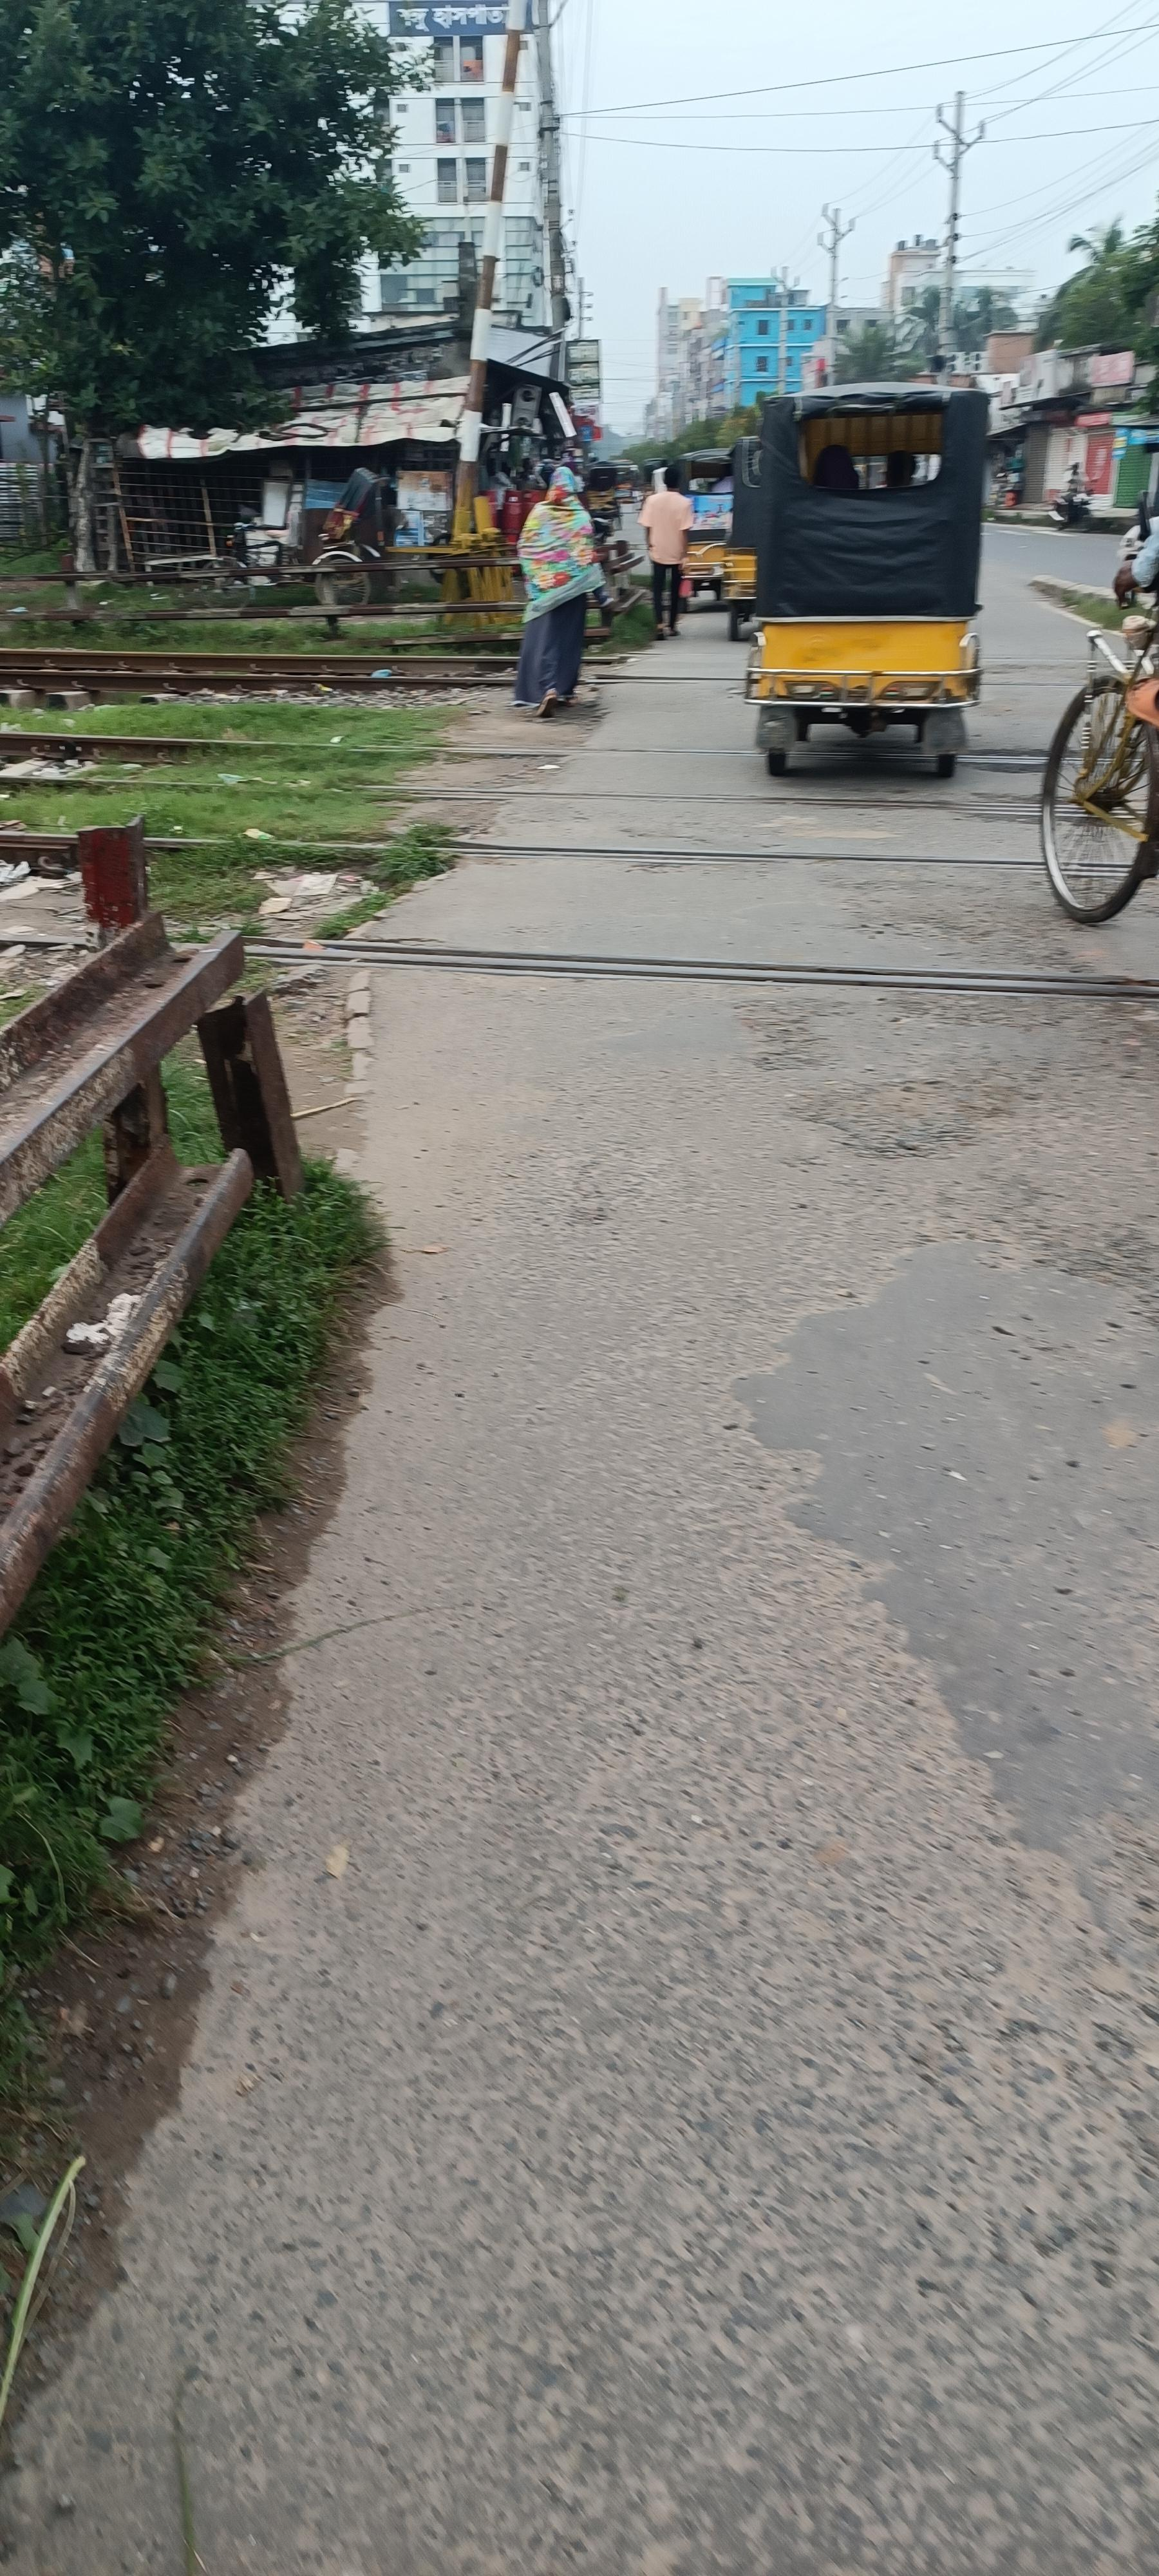Garbage-bin: (512, 467, 609, 718), (639, 467, 696, 637)
Obstacle: (33, 618, 515, 889)
Traffic-cone: (716, 368, 1018, 843)
